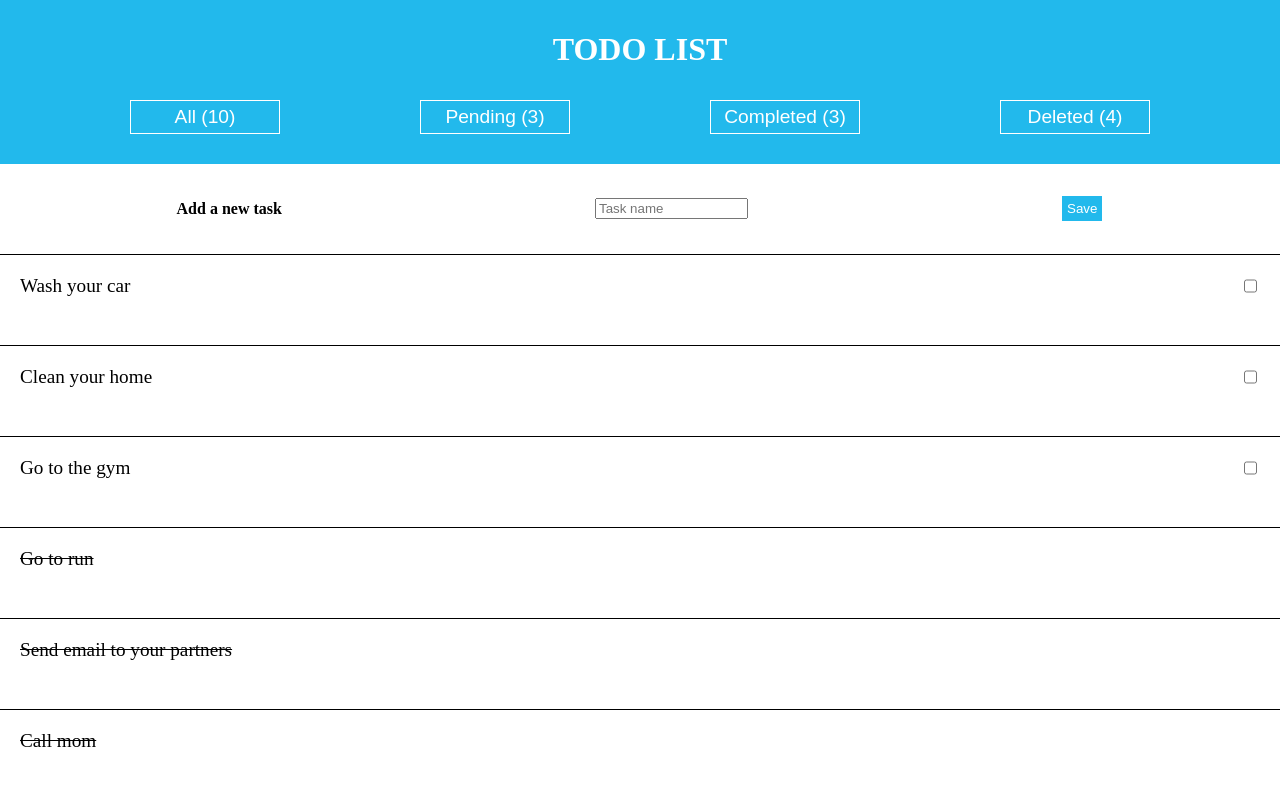
Test: Creation of a new task › Creates a new task
Type "Bring cats to the veterinary tomorrow" into the field with class "task-input". click: (672, 209)
box: [595, 198, 748, 219]
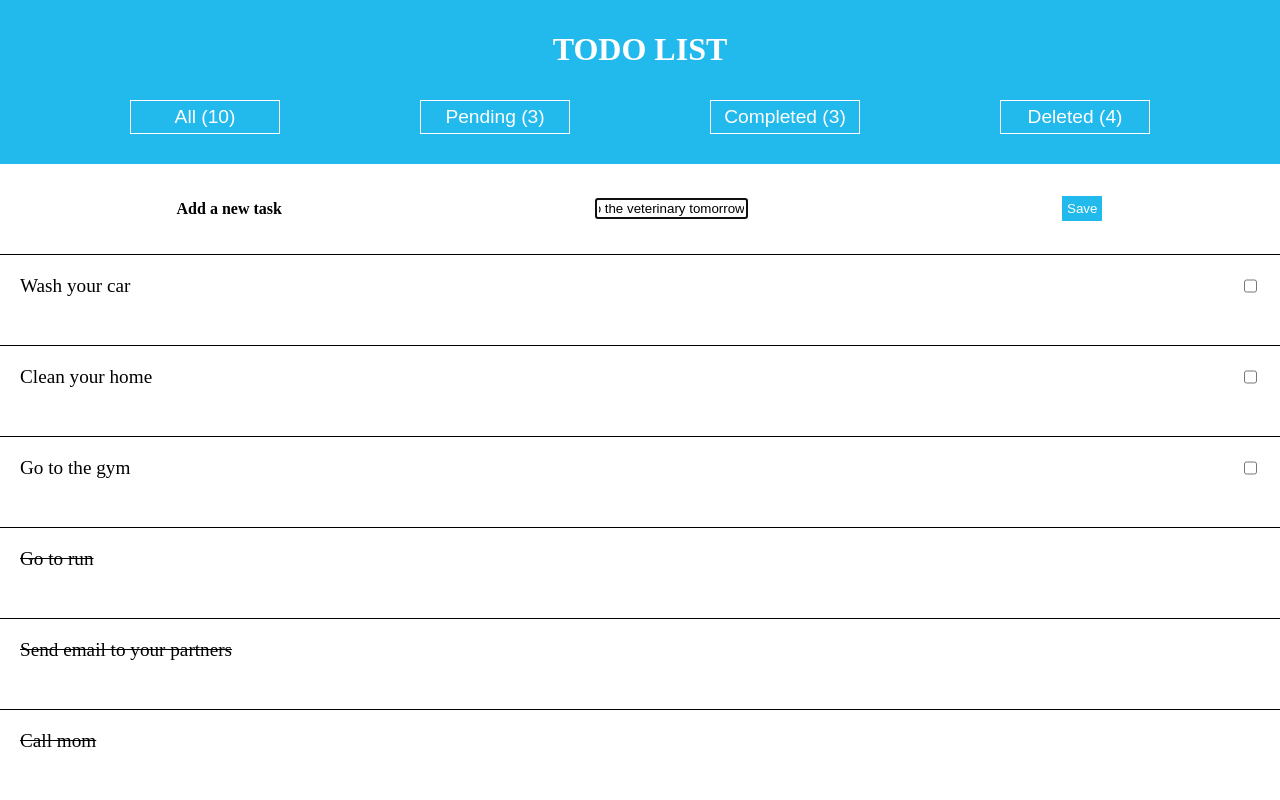
Click the button with class "submit-button". click: click(1082, 209)
box: [1061, 195, 1103, 222]
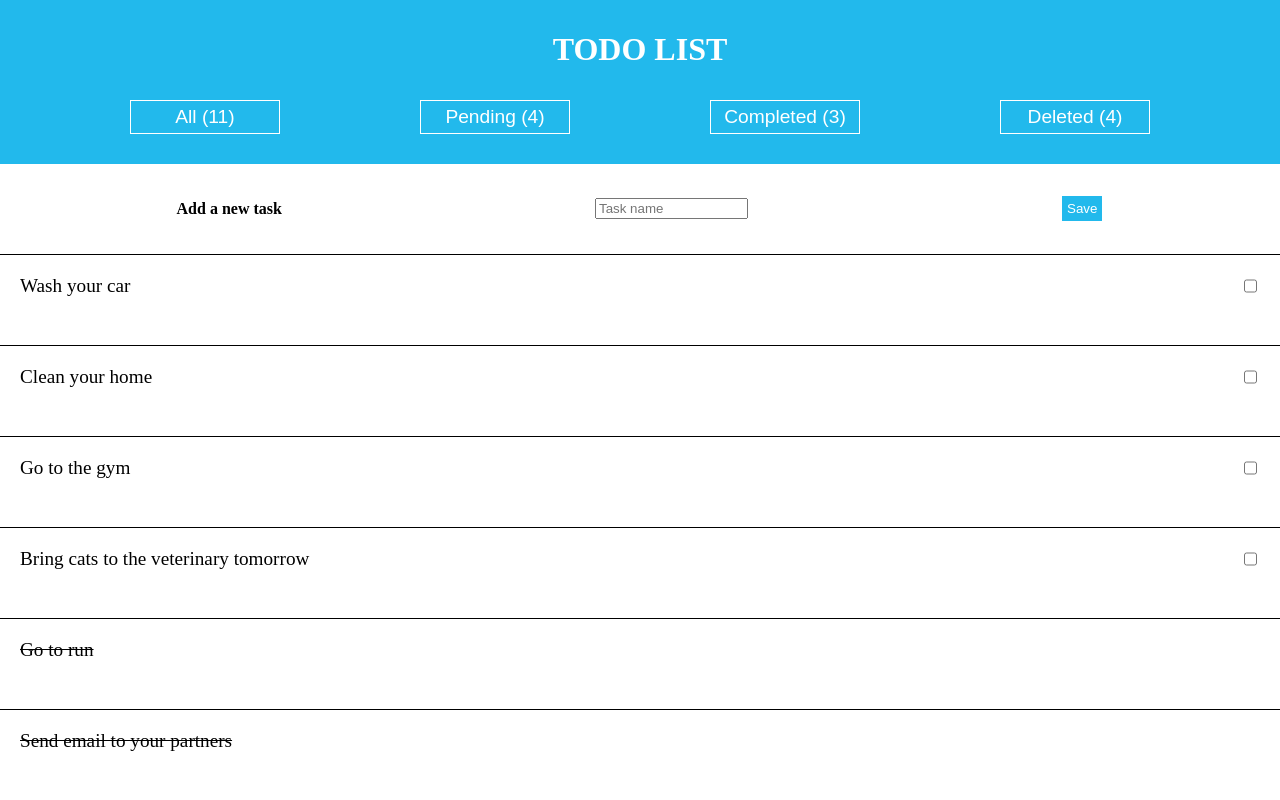
Expected: the text "Bring cats to the veterinary tomorrow" is shown, [20, 548, 309, 570]
